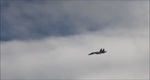maybay_muctieu: (86, 46, 106, 57)
